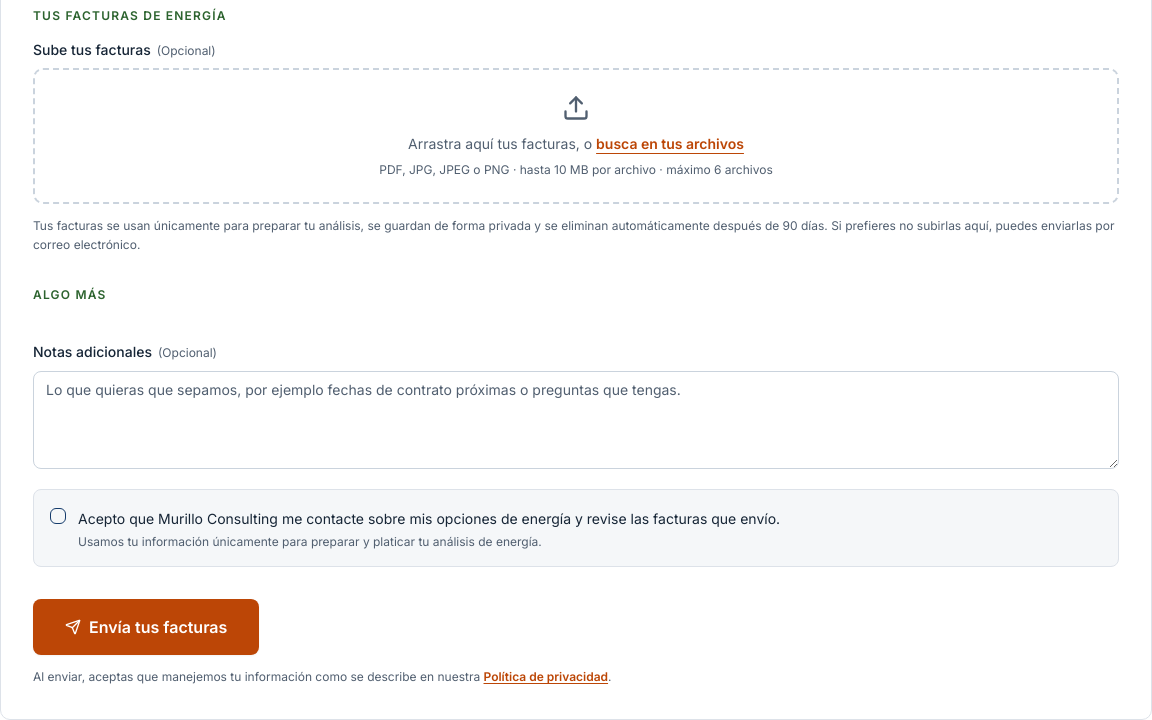
Scenario: LeadForm rendering › shows translated validation errors on submit
(page scrolled)
Click the button "Envía tus facturas": click(146, 627) top-left (33, 599), bottom-right (259, 655)
(page scrolled)
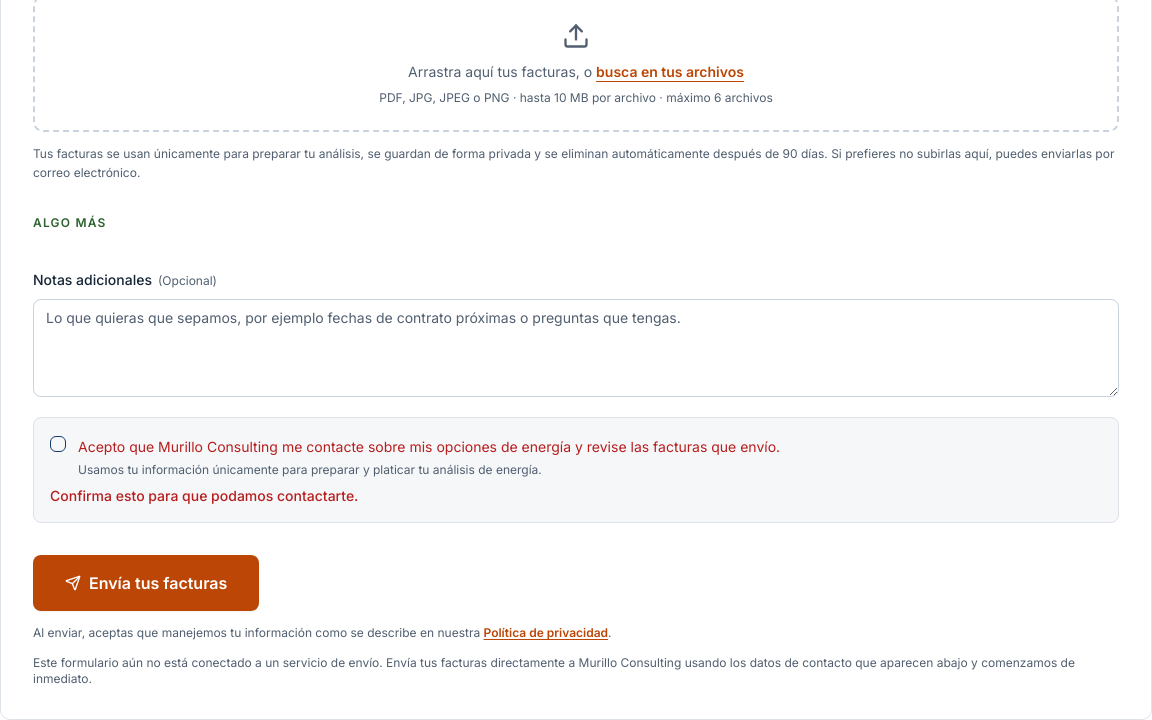
Check: the text "Confirma esto para que podamos contactarte." is shown, box top-left (50, 487), bottom-right (358, 504)
